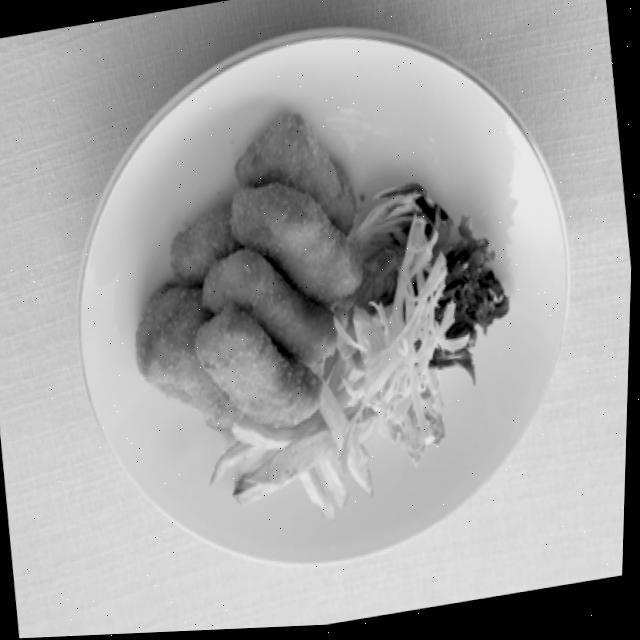鸡肉料理 含炸鸡: (35, 0, 609, 593)
